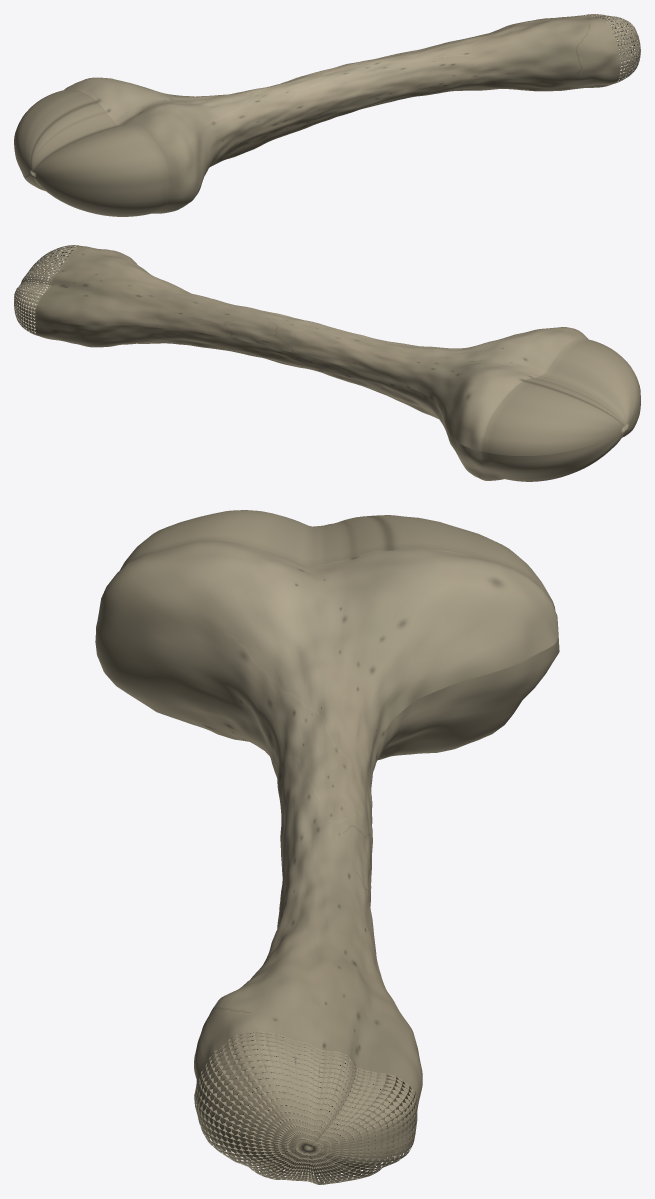
The model's file is Bone_Tibia.glb.
The picture shows the model from 3 angles, top to bottom: view 1: azimuth 30°, elevation 25°; view 2: azimuth 150°, elevation 25°; view 3: azimuth 270°, elevation 25°; orthographic projection. The views are drawn at different scales.
Visible parts, largest first — view 1: Bone_Tibia; view 2: Bone_Tibia; view 3: Bone_Tibia.
Boxes of the visible parts, <box> form: Bone_Tibia: <box>14,14,640,216</box>; Bone_Tibia: <box>14,245,640,481</box>; Bone_Tibia: <box>95,510,559,1184</box>.
Bounding box in the file's own units: 0.34 × 0.0531 × 0.1146.
1 material, 1 textured.
